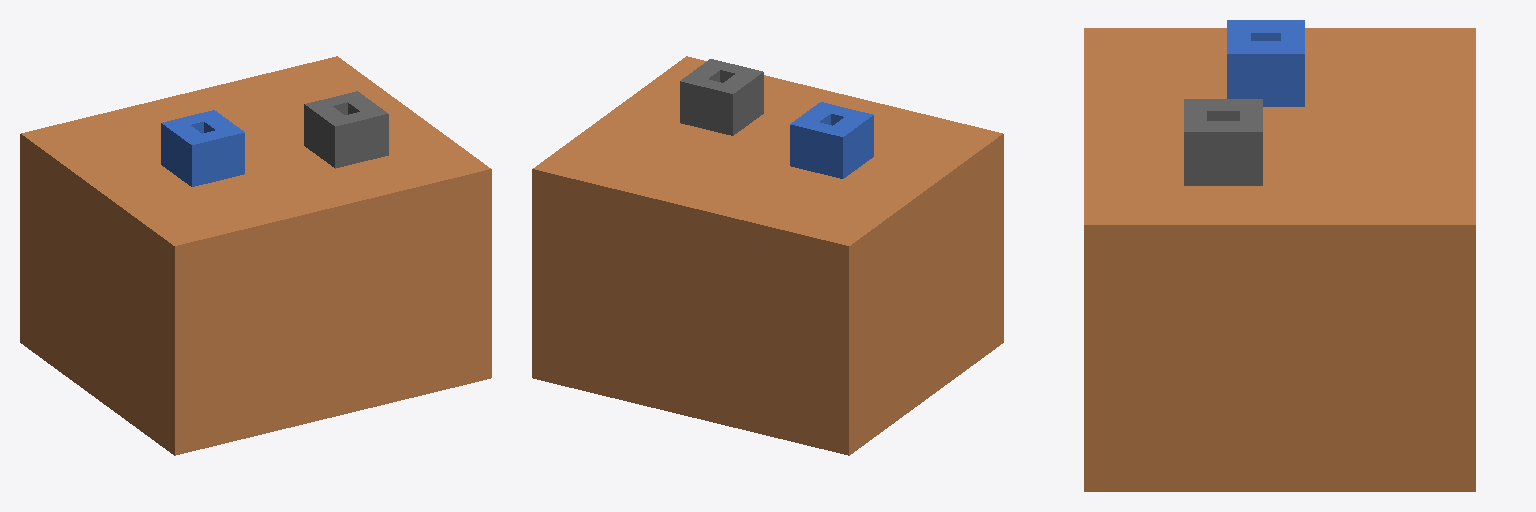
The robot description file, URDF, robot "peg_in_hole_fixtured_scene_0021_peg0018_tol02":
<?xml version="1.0"?>
<robot name="peg_in_hole_fixtured_scene_0021_peg0018_tol02">
  <material name="wood"><color rgba="0.82 0.56 0.35 1.0"/></material>
  <material name="start_fix"><color rgba="0.30 0.50 0.85 1.0"/></material>
  <material name="goal_fix"><color rgba="0.4706 0.4706 0.4706 1.0"/></material>
  <link name="box">
    <visual>
      <origin xyz="0.000000 0.000000 0.000000" rpy="0 0 0"/>
      <geometry><box size="0.475000 0.400000 0.300000"/></geometry>
      <material name="wood"/>
    </visual>
    <collision>
      <origin xyz="0.000000 0.000000 0.000000" rpy="0 0 0"/>
      <geometry><box size="0.475000 0.400000 0.300000"/></geometry>
    </collision>
    <visual>
      <origin xyz="-0.087521 -0.014302 0.155000" rpy="0 0 0"/>
      <geometry><box size="0.080000 0.080000 0.010000"/></geometry>
      <material name="start_fix"/>
    </visual>
    <collision>
      <origin xyz="-0.087521 -0.014302 0.155000" rpy="0 0 0"/>
      <geometry><box size="0.080000 0.080000 0.010000"/></geometry>
    </collision>
    <visual>
      <origin xyz="-0.062271 -0.014302 0.185000" rpy="0 0 0"/>
      <geometry><box size="0.029500 0.080000 0.050000"/></geometry>
      <material name="start_fix"/>
    </visual>
    <collision>
      <origin xyz="-0.062271 -0.014302 0.185000" rpy="0 0 0"/>
      <geometry><box size="0.029500 0.080000 0.050000"/></geometry>
    </collision>
    <visual>
      <origin xyz="-0.112771 -0.014302 0.185000" rpy="0 0 0"/>
      <geometry><box size="0.029500 0.080000 0.050000"/></geometry>
      <material name="start_fix"/>
    </visual>
    <collision>
      <origin xyz="-0.112771 -0.014302 0.185000" rpy="0 0 0"/>
      <geometry><box size="0.029500 0.080000 0.050000"/></geometry>
    </collision>
    <visual>
      <origin xyz="-0.087521 0.013448 0.185000" rpy="0 0 0"/>
      <geometry><box size="0.021000 0.024500 0.050000"/></geometry>
      <material name="start_fix"/>
    </visual>
    <collision>
      <origin xyz="-0.087521 0.013448 0.185000" rpy="0 0 0"/>
      <geometry><box size="0.021000 0.024500 0.050000"/></geometry>
    </collision>
    <visual>
      <origin xyz="-0.087521 -0.042052 0.185000" rpy="0 0 0"/>
      <geometry><box size="0.021000 0.024500 0.050000"/></geometry>
      <material name="start_fix"/>
    </visual>
    <collision>
      <origin xyz="-0.087521 -0.042052 0.185000" rpy="0 0 0"/>
      <geometry><box size="0.021000 0.024500 0.050000"/></geometry>
    </collision>
    <visual>
      <origin xyz="0.102409 -0.057586 0.155000" rpy="0 0 0"/>
      <geometry><box size="0.080000 0.080000 0.010000"/></geometry>
      <material name="goal_fix"/>
    </visual>
    <collision>
      <origin xyz="0.102409 -0.057586 0.155000" rpy="0 0 0"/>
      <geometry><box size="0.080000 0.080000 0.010000"/></geometry>
    </collision>
    <visual>
      <origin xyz="0.128226 -0.057586 0.185000" rpy="0 0 0"/>
      <geometry><box size="0.028366 0.080000 0.050000"/></geometry>
      <material name="goal_fix"/>
    </visual>
    <collision>
      <origin xyz="0.128226 -0.057586 0.185000" rpy="0 0 0"/>
      <geometry><box size="0.028366 0.080000 0.050000"/></geometry>
    </collision>
    <visual>
      <origin xyz="0.076592 -0.057586 0.185000" rpy="0 0 0"/>
      <geometry><box size="0.028366 0.080000 0.050000"/></geometry>
      <material name="goal_fix"/>
    </visual>
    <collision>
      <origin xyz="0.076592 -0.057586 0.185000" rpy="0 0 0"/>
      <geometry><box size="0.028366 0.080000 0.050000"/></geometry>
    </collision>
    <visual>
      <origin xyz="0.102409 -0.029269 0.185000" rpy="0 0 0"/>
      <geometry><box size="0.023268 0.023366 0.050000"/></geometry>
      <material name="goal_fix"/>
    </visual>
    <collision>
      <origin xyz="0.102409 -0.029269 0.185000" rpy="0 0 0"/>
      <geometry><box size="0.023268 0.023366 0.050000"/></geometry>
    </collision>
    <visual>
      <origin xyz="0.102409 -0.085903 0.185000" rpy="0 0 0"/>
      <geometry><box size="0.023268 0.023366 0.050000"/></geometry>
      <material name="goal_fix"/>
    </visual>
    <collision>
      <origin xyz="0.102409 -0.085903 0.185000" rpy="0 0 0"/>
      <geometry><box size="0.023268 0.023366 0.050000"/></geometry>
    </collision>
    <inertial>
      <mass value="500"/>
      <friction value="1.0"/>
      <inertia ixx="1000.0" ixy="0.0" ixz="0.0" iyy="1000.0" iyz="0.0" izz="1000.0"/>
    </inertial>
  </link>
</robot>

--- Render facts (derived) ---
Views: 3 orthographic renders of the robot side by side, from view 1: azimuth 30°, elevation 25°; view 2: azimuth 150°, elevation 25°; view 3: azimuth 270°, elevation 25°.
Robot: peg_in_hole_fixtured_scene_0021_peg0018_tol02 — 1 links, 0 joints (none); root link box; default pose: every joint at zero.
Visible links, largest first — view 1: box; view 2: box; view 3: box.
Link boxes in pixels (left/top/right/bottom): box: left=20, top=56, right=491, bottom=455; box: left=532, top=56, right=1003, bottom=455; box: left=1084, top=20, right=1475, bottom=491.
Size in the robot's own frame: 0.475 by 0.4 by 0.36 metres.
Geometry: primitives only (box / cylinder / sphere), no mesh files.
